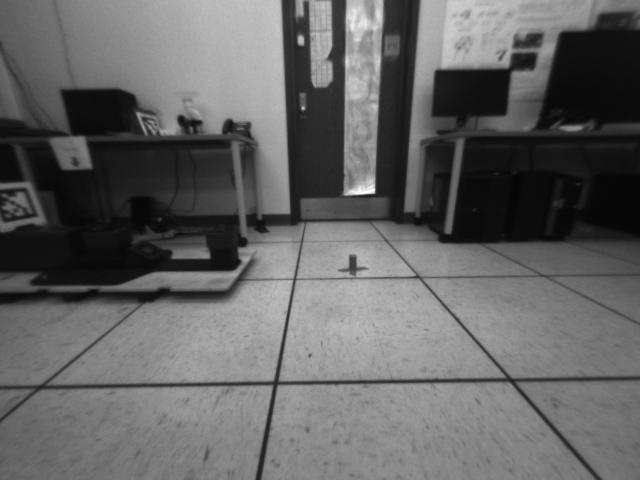X: (337, 253, 370, 277)
